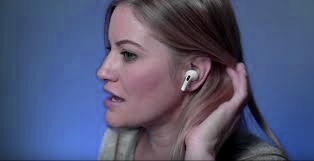earphone: (180, 55, 211, 92)
